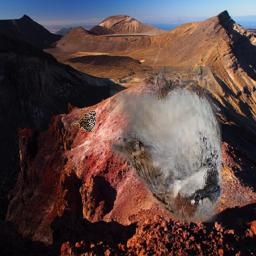Sparrow: (110, 67, 222, 224), (71, 110, 97, 132)
